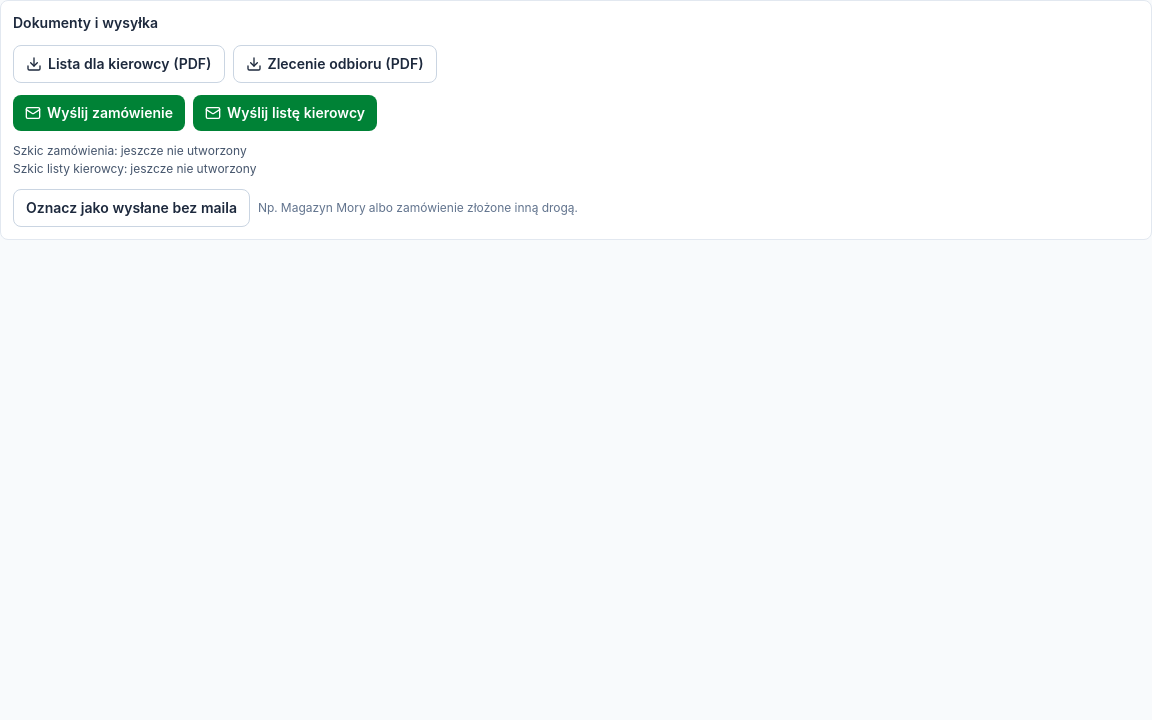
Test: TransportSendPanel — confirmation card › missing logistics is a soft warning — the confirm button stays enabled
Click the button "Wyślij zamówienie".
click(99, 113)  # box [13, 95, 185, 131]
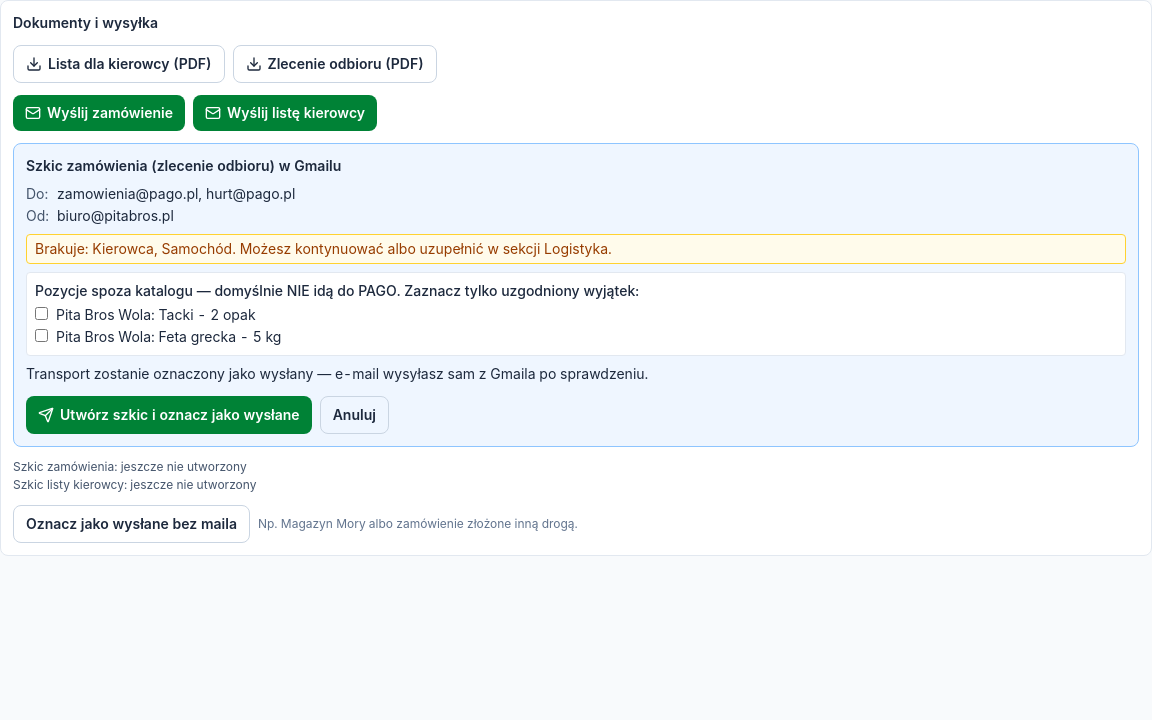
Expected: the element named "Szkic zamówienia (zlecenie odbioru) w Gmailu" shows "Brakuje: Kierowca, Samochód. Możesz kontynuować albo uzupełnić w sekcji Logistyka.", [35, 240, 612, 257]
Expected: the button "Utwórz szkic i oznacz jako wysłane" is enabled, [26, 396, 312, 434]
